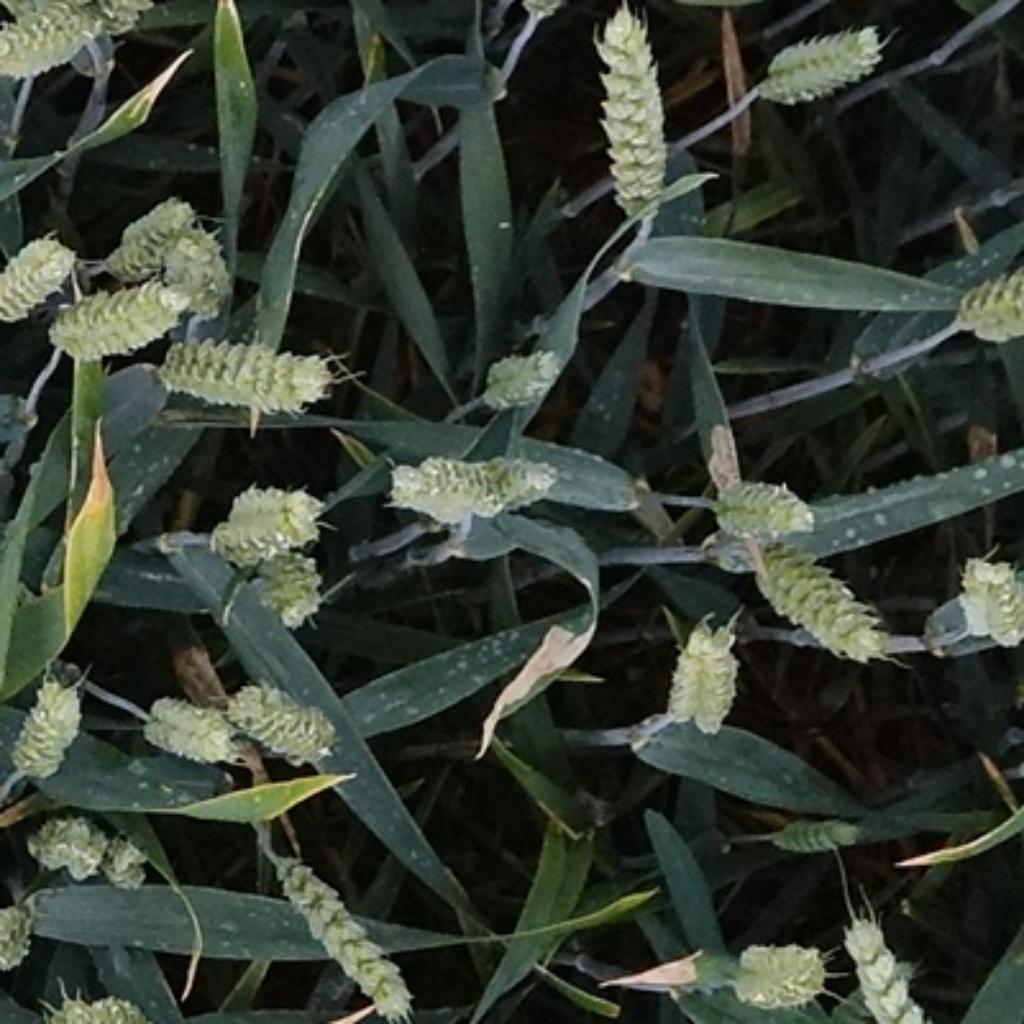0-0: (248, 834, 439, 1021), (583, 5, 690, 238), (143, 330, 348, 427), (750, 542, 893, 663), (750, 15, 902, 115), (48, 271, 189, 373), (657, 606, 753, 737), (153, 207, 243, 340), (222, 665, 340, 760), (840, 910, 937, 1024), (205, 478, 323, 567), (110, 184, 212, 286), (135, 682, 244, 775), (6, 668, 91, 786), (715, 933, 833, 1017), (942, 540, 1024, 660), (17, 801, 121, 890), (0, 6, 114, 87), (708, 474, 820, 554), (474, 335, 574, 420), (245, 542, 340, 629), (417, 434, 506, 521), (944, 255, 1024, 350), (0, 230, 75, 327), (368, 456, 454, 535), (762, 806, 871, 866), (490, 443, 561, 524), (34, 977, 157, 1021), (94, 816, 166, 890), (0, 880, 46, 995)
